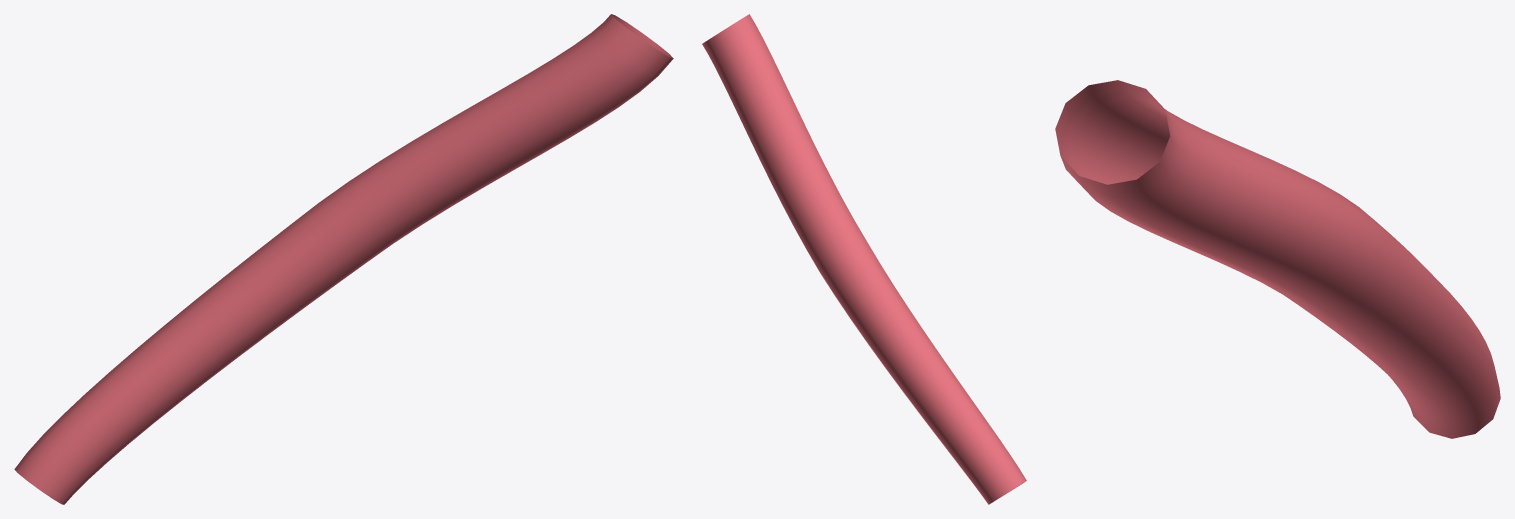
The picture shows the model from 3 angles, left to right: view 1: azimuth 30°, elevation 25°; view 2: azimuth 150°, elevation 25°; view 3: azimuth 270°, elevation 25°; orthographic projection. The views are drawn at different scales.
Visible parts, largest first — view 1: ZA_55b28812a896caa6; view 2: ZA_55b28812a896caa6; view 3: ZA_55b28812a896caa6.
Boxes of the visible parts, x1,y1,x2,y2 form: ZA_55b28812a896caa6: [14, 14, 673, 504]; ZA_55b28812a896caa6: [702, 14, 1026, 504]; ZA_55b28812a896caa6: [1055, 80, 1500, 438].
Bounding box in the file's own units: 0.0241 × 0.0196 × 0.0116.
